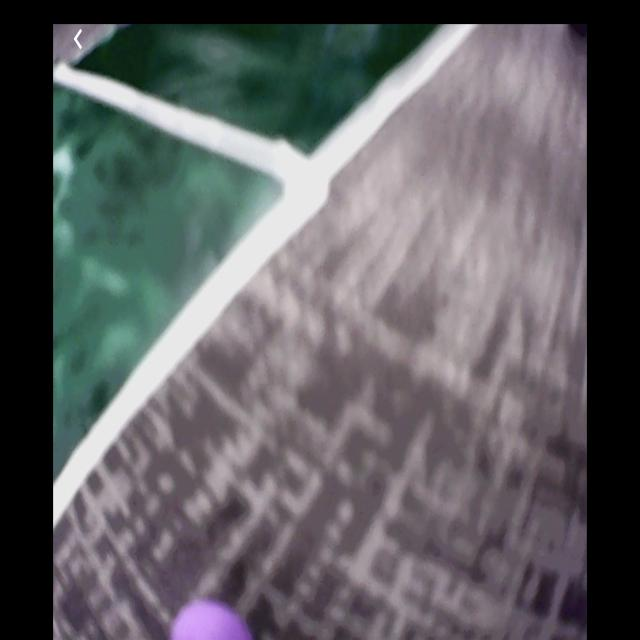ball: (171, 599, 258, 640)
